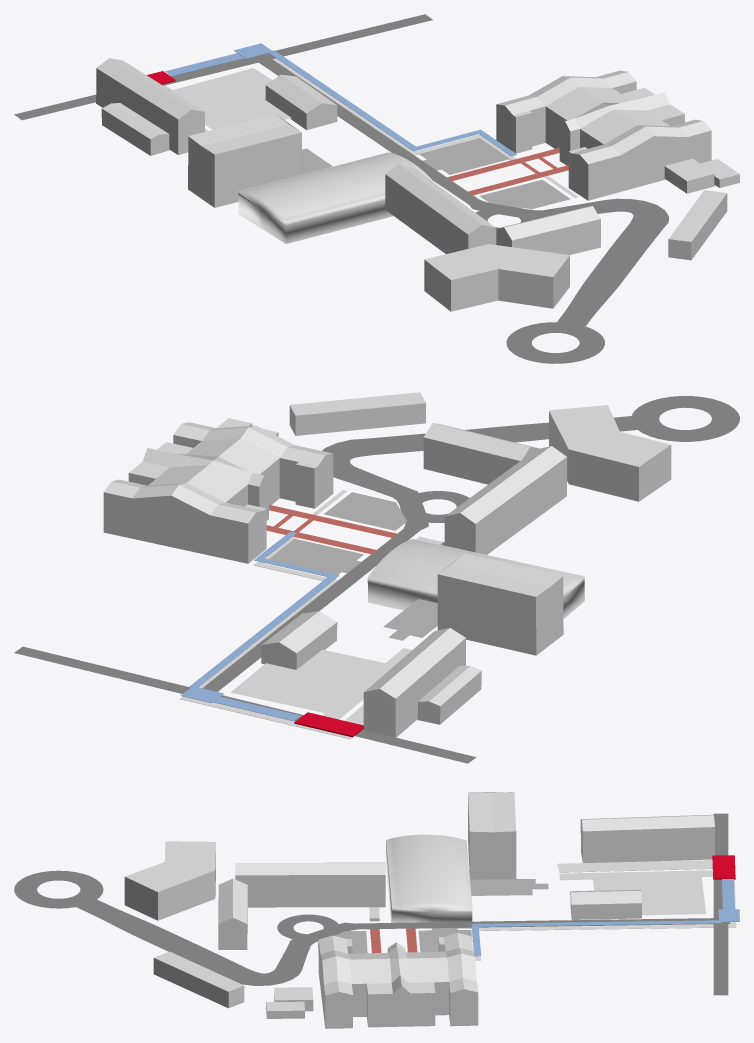
Rendered from bsu model.glb.
The picture shows the model from 3 angles, top to bottom: view 1: azimuth 30°, elevation 25°; view 2: azimuth 150°, elevation 25°; view 3: azimuth 270°, elevation 25°; orthographic projection. The views are drawn at different scales.
Parts seen in each view (by area): view 1: Albert Einstein Building.001, Sparta Gymnasium, Plane.001, Cube.013, STEER Hub, CICS Building, CTE Building, Plane.002, Ralph G. Recto Type Building (RGR), Plane, Circle.001, Student Services (+9 smaller); view 2: Albert Einstein Building.001, STEER Hub, Cube.013, Plane.001, CICS Building, Plane.002, CTE Building, Sparta Gymnasium, Ralph G. Recto Type Building (RGR), Cube.016, Circle.001, Student Services (+11 smaller); view 3: Albert Einstein Building.001, Sparta Gymnasium, Plane.001, CICS Building, CTE Building, Cube.013, STEER Hub, Plane.002, Cube.016, Cube.017, Circle.001, Plane (+11 smaller).
Boxes of the visible parts, x1=… form: Albert Einstein Building.001: x1=496, y1=70, x2=711, y2=200; Sparta Gymnasium: x1=238, y1=152, x2=433, y2=243; Plane.001: x1=254, y1=54, x2=668, y2=325; Cube.013: x1=424, y1=244, x2=569, y2=311; STEER Hub: x1=188, y1=114, x2=301, y2=207; CICS Building: x1=385, y1=164, x2=496, y2=253; CTE Building: x1=96, y1=58, x2=204, y2=154; Plane.002: x1=163, y1=68, x2=291, y2=129; Ralph G. Recto Type Building (RGR): x1=496, y1=206, x2=600, y2=254; Plane: x1=14, y1=14, x2=432, y2=120; Circle.001: x1=506, y1=322, x2=604, y2=363; Student Services: x1=265, y1=74, x2=337, y2=130; Albert Einstein Building.001: x1=103, y1=422, x2=333, y2=563; STEER Hub: x1=437, y1=553, x2=563, y2=655; Cube.013: x1=549, y1=405, x2=671, y2=501; Plane.001: x1=203, y1=416, x2=637, y2=691; CICS Building: x1=444, y1=446, x2=566, y2=554; Plane.002: x1=230, y1=648, x2=411, y2=719; CTE Building: x1=363, y1=628, x2=465, y2=737; Sparta Gymnasium: x1=367, y1=539, x2=584, y2=618; Ralph G. Recto Type Building (RGR): x1=423, y1=423, x2=538, y2=484; Cube.016: x1=289, y1=392, x2=425, y2=435; Circle.001: x1=631, y1=396, x2=739, y2=441; Student Services: x1=261, y1=611, x2=337, y2=669; Albert Einstein Building.001: x1=318, y1=933, x2=478, y2=1028; Sparta Gymnasium: x1=385, y1=834, x2=472, y2=928; Plane.001: x1=76, y1=899, x2=730, y2=985; CICS Building: x1=235, y1=862, x2=385, y2=907; CTE Building: x1=580, y1=814, x2=714, y2=862; Cube.013: x1=124, y1=841, x2=215, y2=920; STEER Hub: x1=468, y1=792, x2=516, y2=879; Plane.002: x1=559, y1=870, x2=712, y2=915; Cube.016: x1=153, y1=951, x2=244, y2=1008; Cube.017: x1=471, y1=860, x2=736, y2=960; Circle.001: x1=14, y1=870, x2=103, y2=908; Plane: x1=713, y1=813, x2=728, y2=995.
Size of the model in its own units: 246 by 32.33 by 360.
